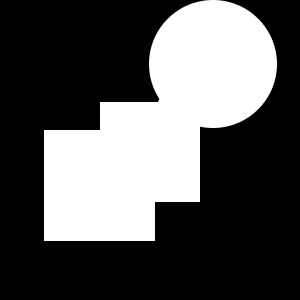circle: (44, 130, 155, 241), (100, 102, 200, 202)
rectangle: (149, 0, 277, 128)
triangle: (148, 63, 207, 122)
